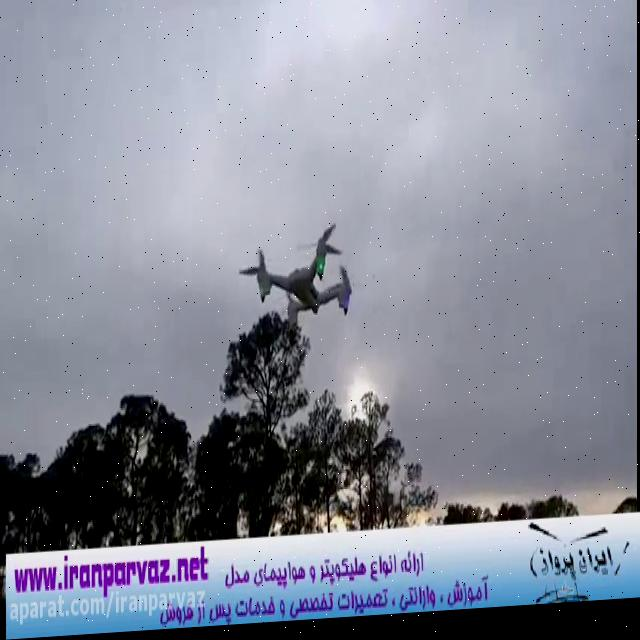drone: (238, 221, 365, 340)
